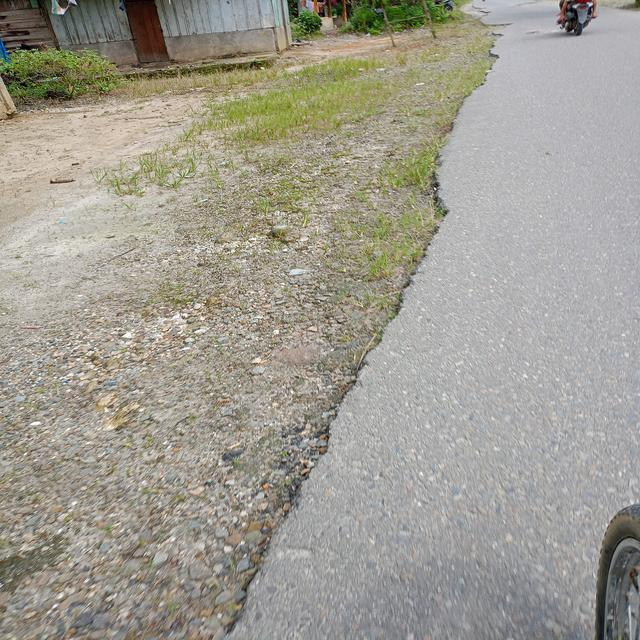Pinggir: (202, 90, 480, 640)
